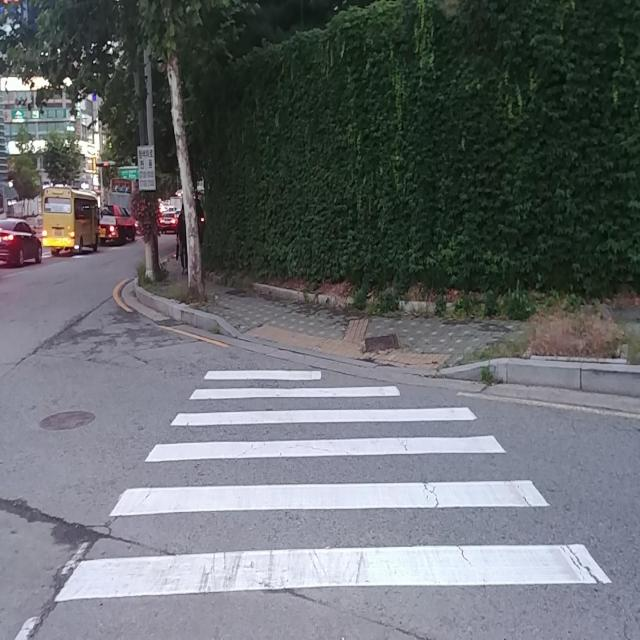횡단보도: (54, 369, 615, 604)
